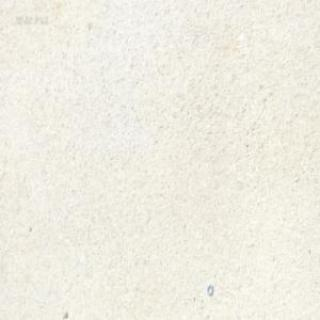Washertrack_idkeyframe: (206, 283, 213, 296)
